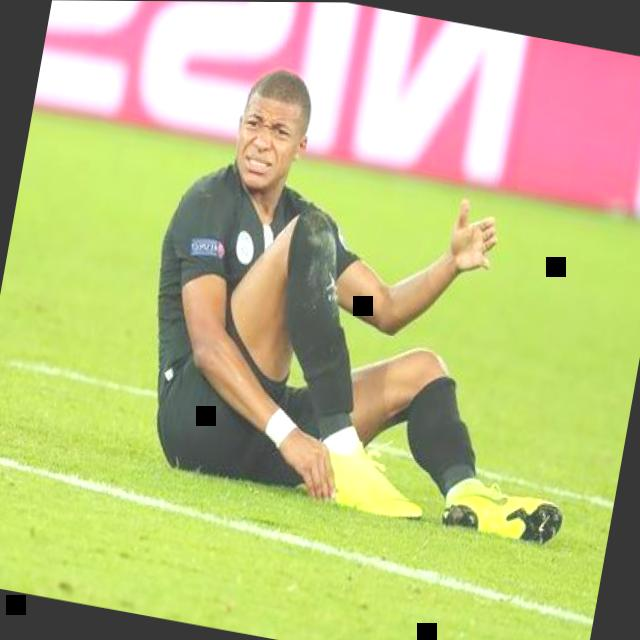Fall-Detected: (107, 24, 640, 571)
